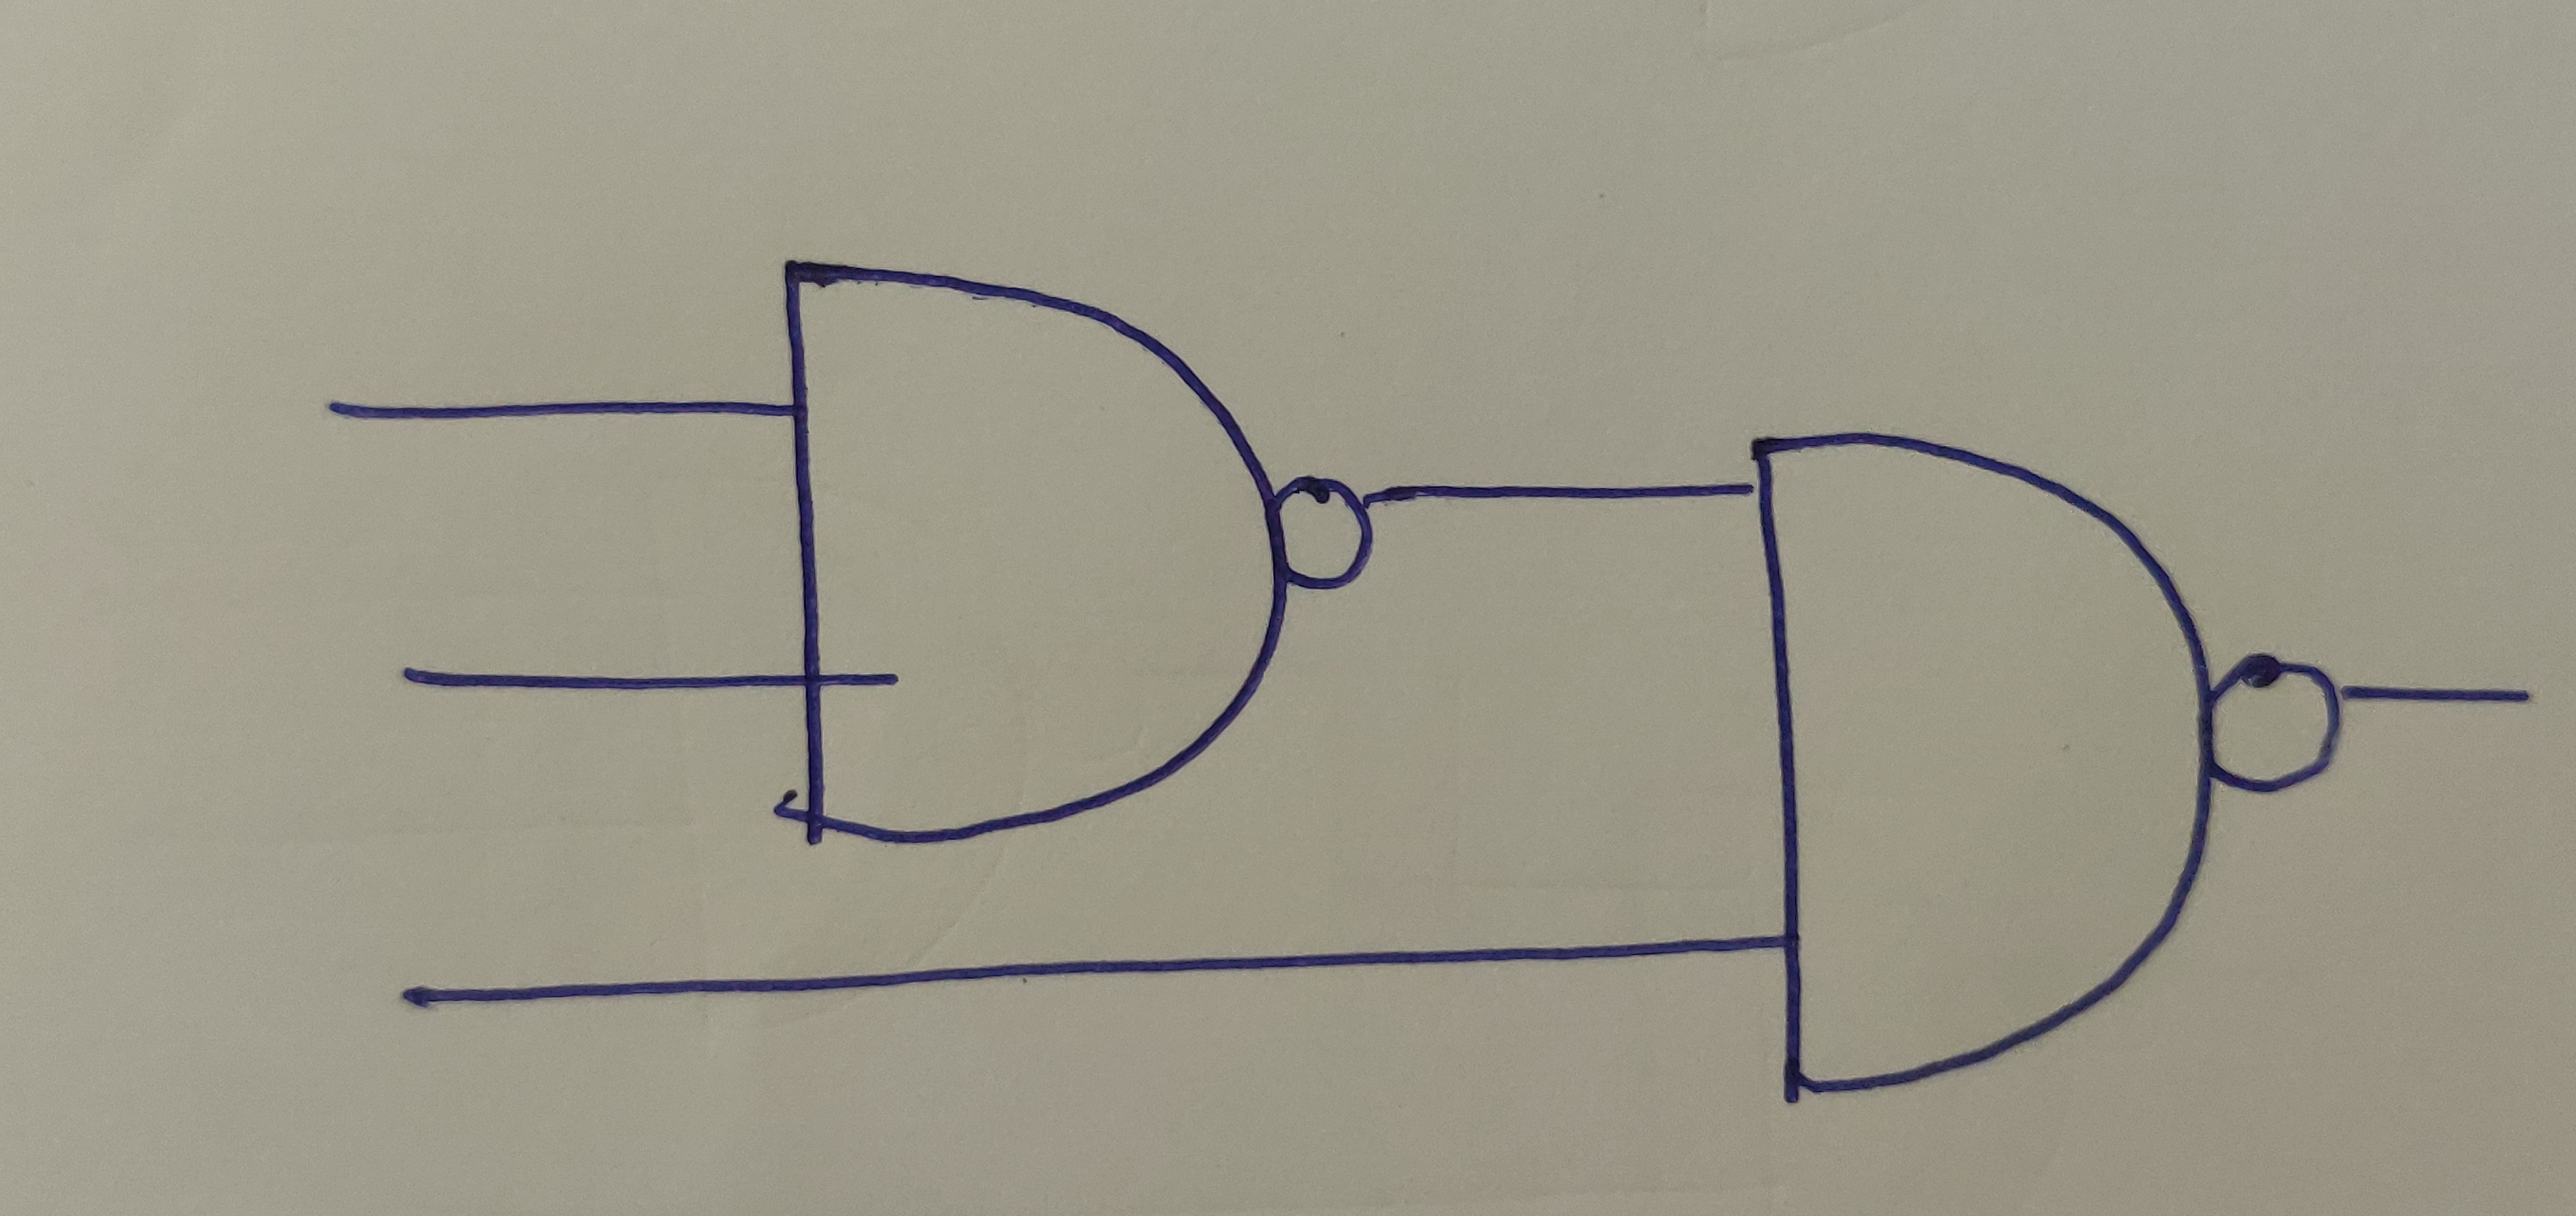and: (1746, 429, 2208, 1098), (775, 253, 1285, 846)
not: (2193, 652, 2346, 795), (1268, 477, 1380, 593)
